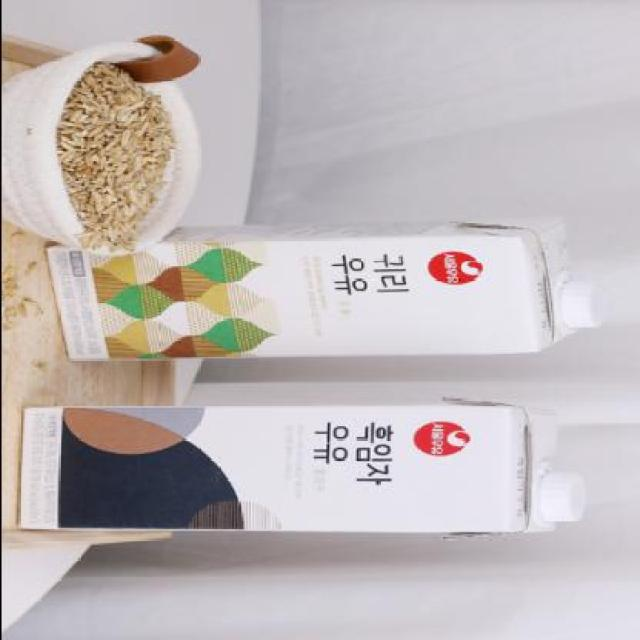tetra: (28, 215, 622, 378), (3, 392, 614, 548)
